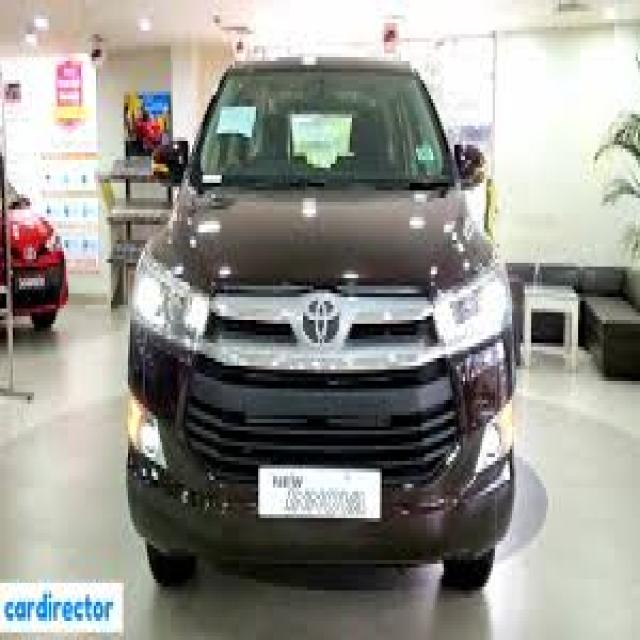light_vehicle: (128, 55, 515, 596)
